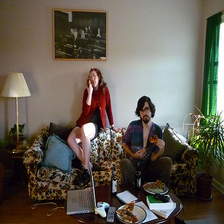laptop: (54, 171, 101, 221)
